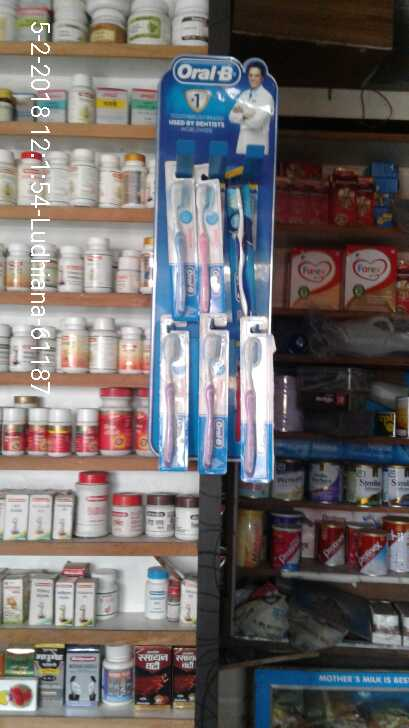oralb: (192, 335, 227, 468), (239, 329, 267, 482), (227, 173, 256, 313), (151, 335, 178, 465), (192, 175, 217, 314), (169, 175, 183, 334)
